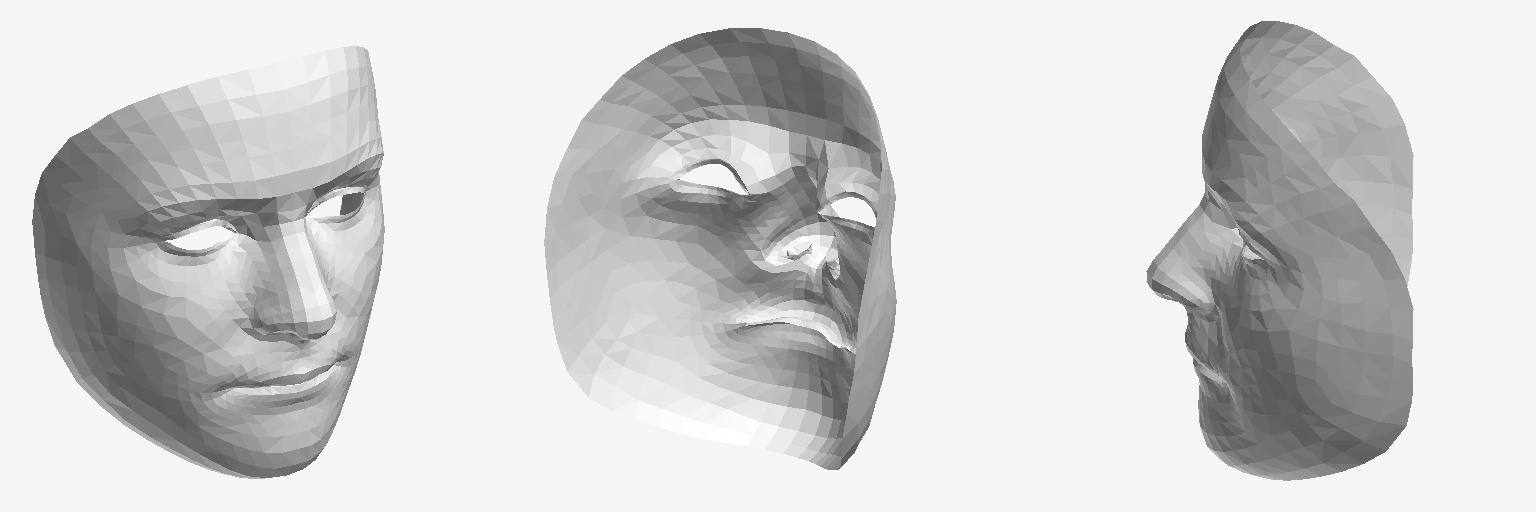
The model's file is mouthRollLower.obj.
3 views of the same model, side by side, from view 1: azimuth 30°, elevation 25°; view 2: azimuth 150°, elevation 25°; view 3: azimuth 270°, elevation 25° (orthographic).
Visible parts, largest first — view 1: default; view 2: default; view 3: default.
Part boxes in pixels (x1,y1,x2,y2): default: (32, 46, 384, 478); default: (544, 28, 896, 469); default: (1146, 21, 1413, 480).
Bounding box in the file's own units: 0.1447 × 0.1816 × 0.1055.